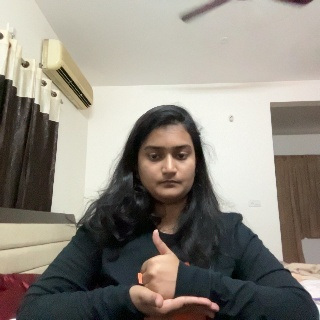Face: (139, 112, 200, 205)
Help: (121, 229, 222, 313)
